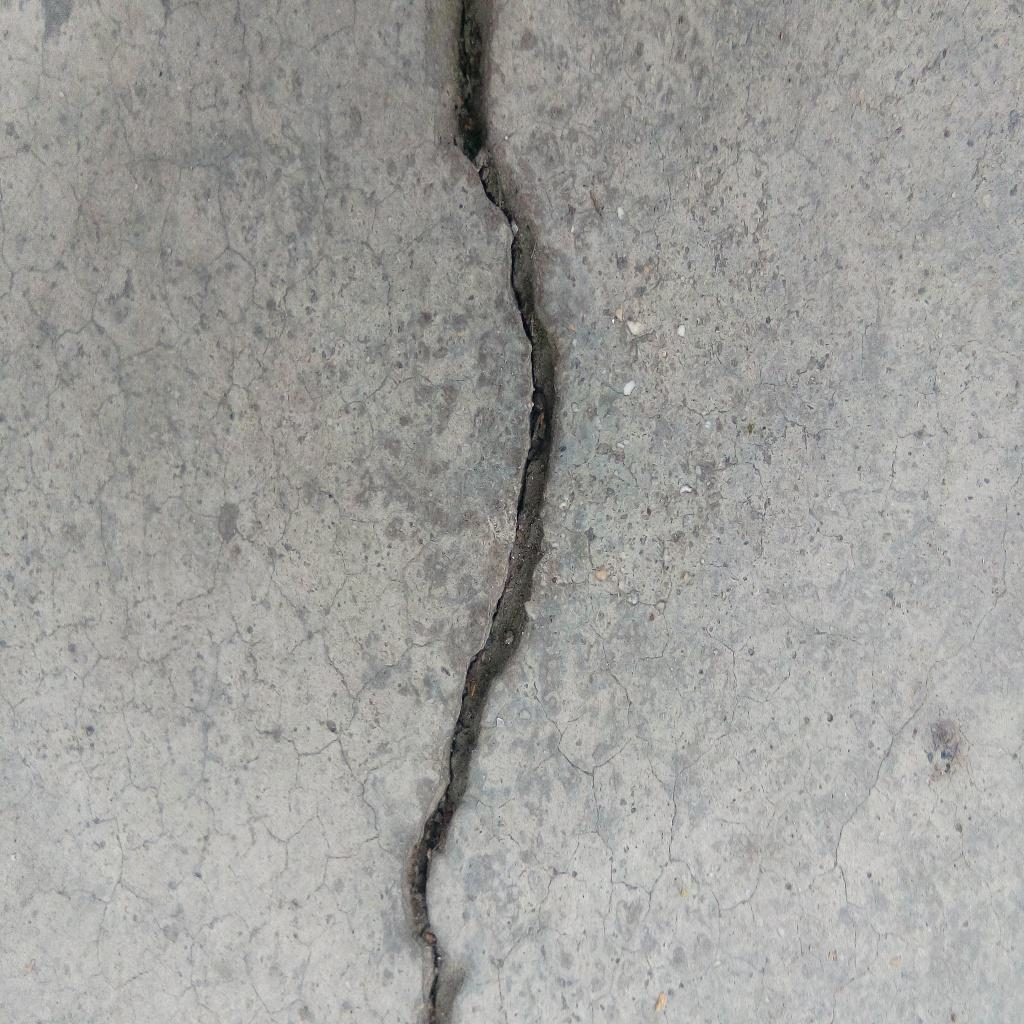Crack: (406, 1, 558, 1024)
